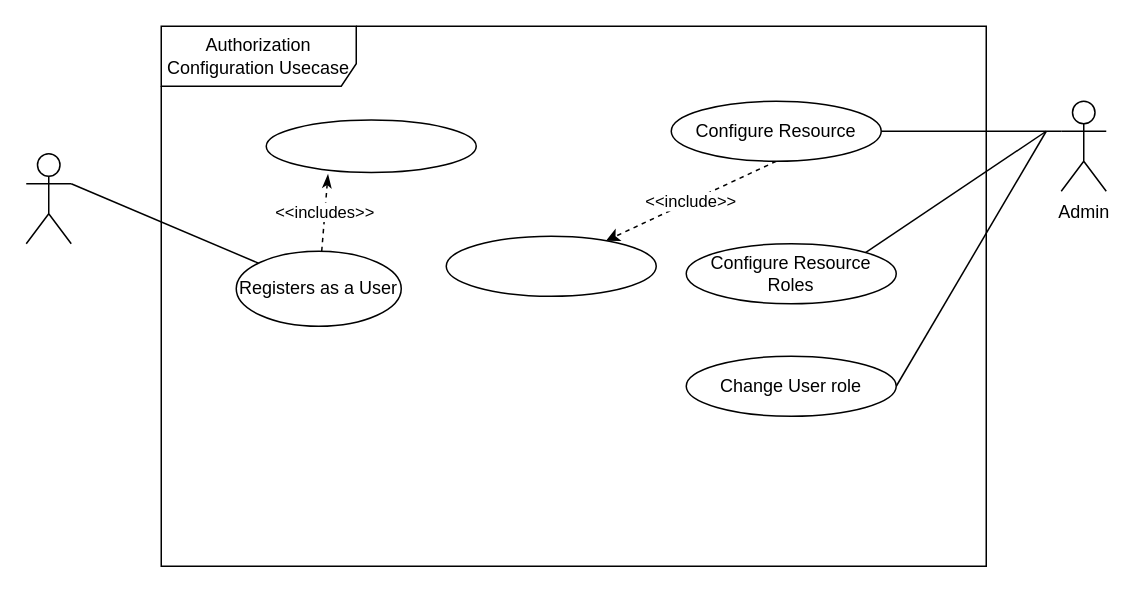
The diagram is 1136 pixels wide and 593 high, and some of its shapes have lost their labels. The shapes that lost their labels are listed below. From the top down, each one's centre as x and y in pixels, then its label:
At pixel 370 145: "default Role [Tutor|Admin]".
At pixel 48 198: "User".
At pixel 550 265: "Component, URL, Hierarchy...".
